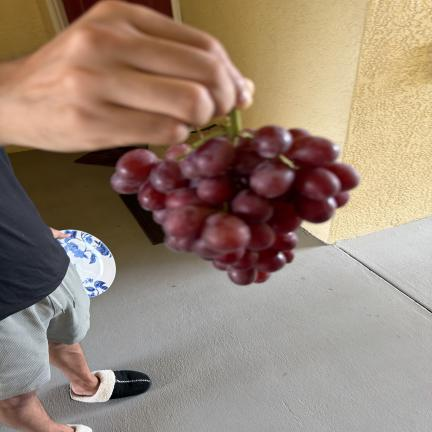grape_cluster: (111, 112, 359, 285)
